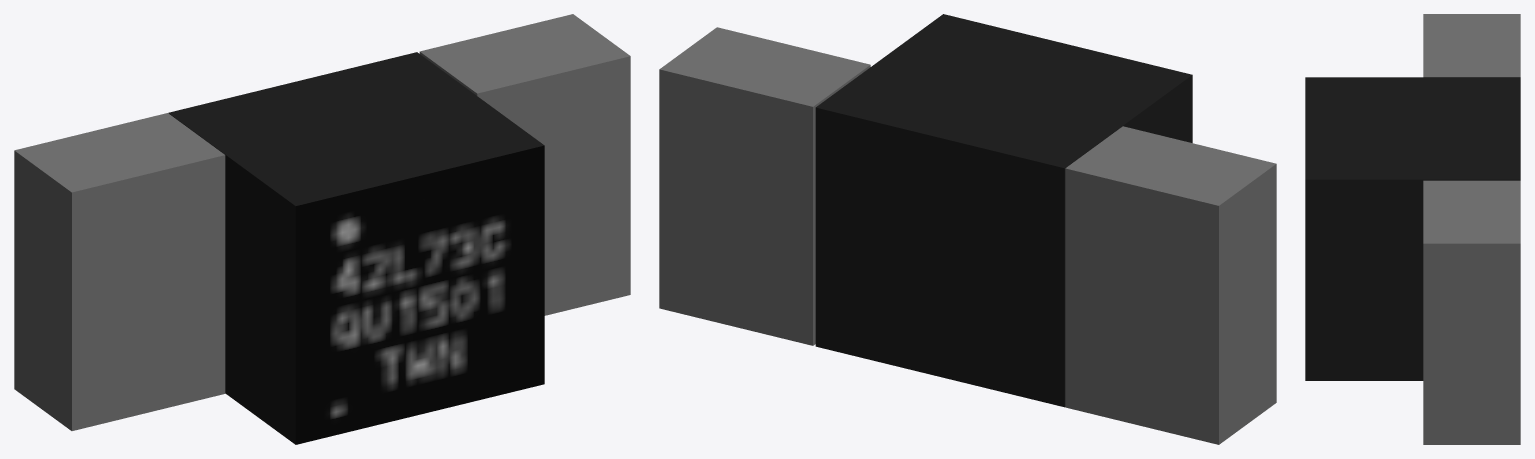
Rendered from Chip_014.FBX.
3 views of the same model, side by side, from view 1: azimuth 30°, elevation 25°; view 2: azimuth 150°, elevation 25°; view 3: azimuth 270°, elevation 25° (orthographic). The views are drawn at different scales.
Visible parts, largest first — view 1: Chip_014; view 2: Chip_014; view 3: Chip_014.
Part boxes in pixels (x1,y1,x2,y2): Chip_014: (14,14,630,444); Chip_014: (659,14,1276,444); Chip_014: (1305,14,1520,444).
Size of the model in its own units: 3.05 by 1.2 by 1.24.
Materials: 2 (1 with a texture image).
